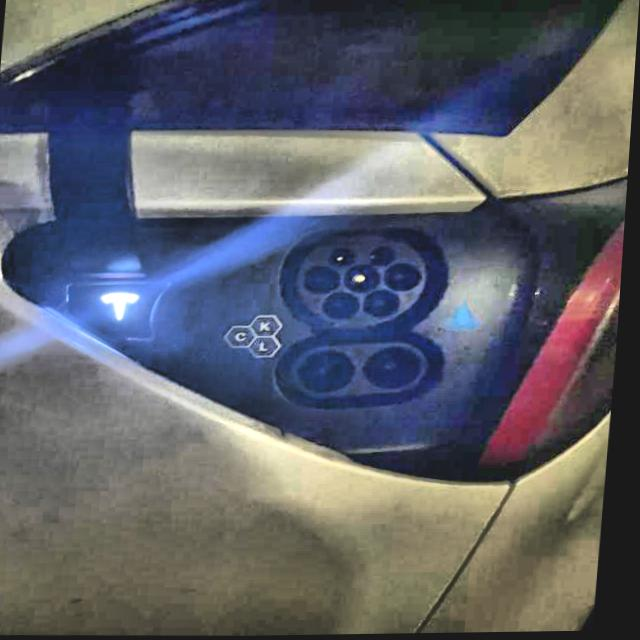inlet: (300, 240, 430, 328)
inlet-above-left: (331, 247, 359, 268)
inlet-above-right: (375, 247, 401, 265)
inlet-below-left: (327, 292, 364, 320)
inlet-below-right: (367, 291, 403, 318)
inlet-center: (347, 265, 384, 293)
inlet-center-left: (307, 266, 344, 293)
inlet-center-right: (387, 264, 425, 293)
